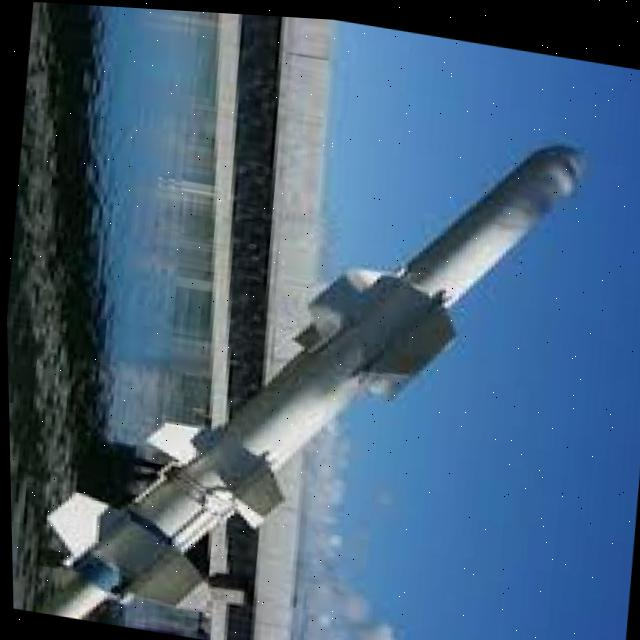missile: (24, 59, 597, 640)
